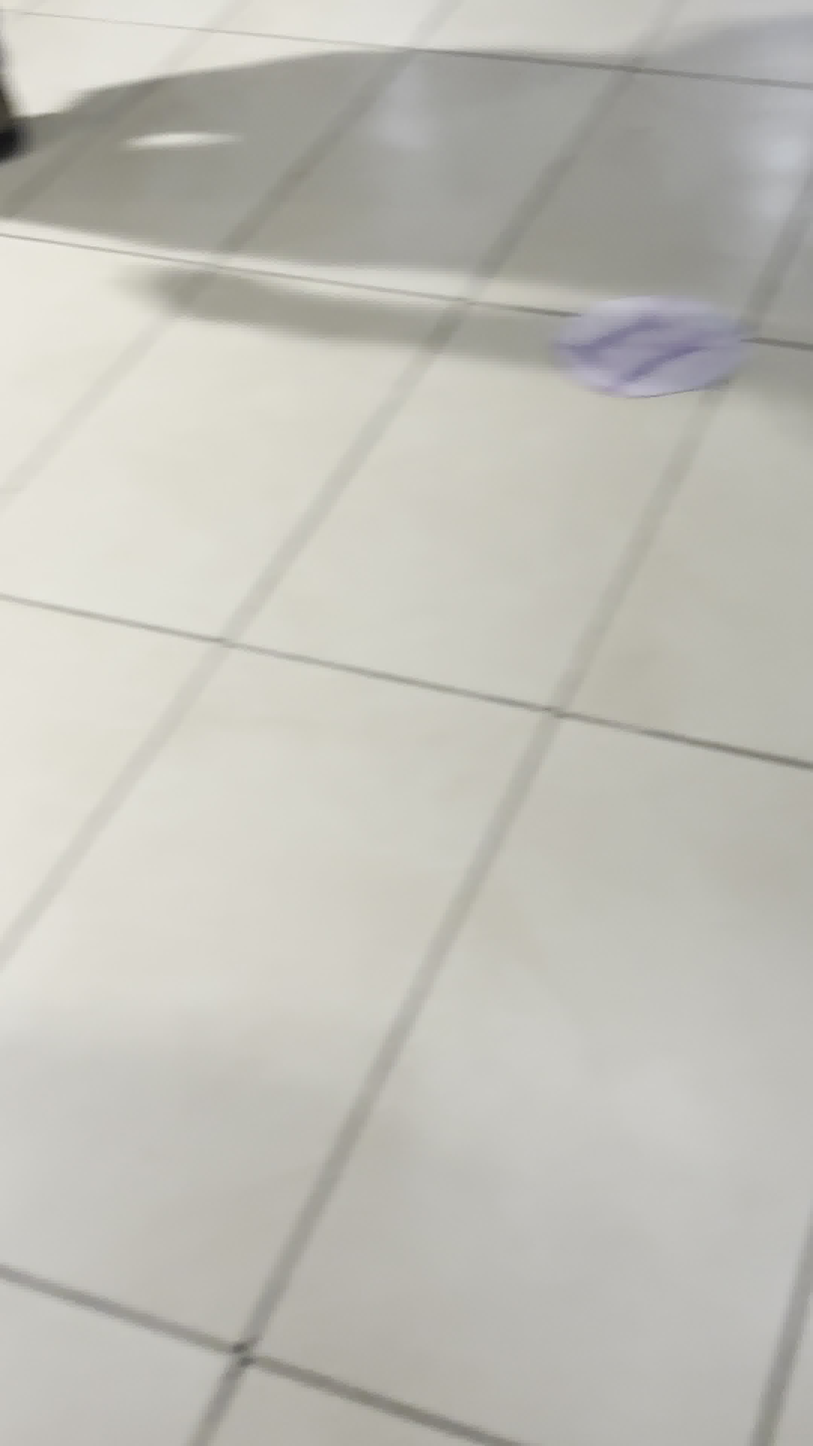Target: (553, 296, 747, 400)
